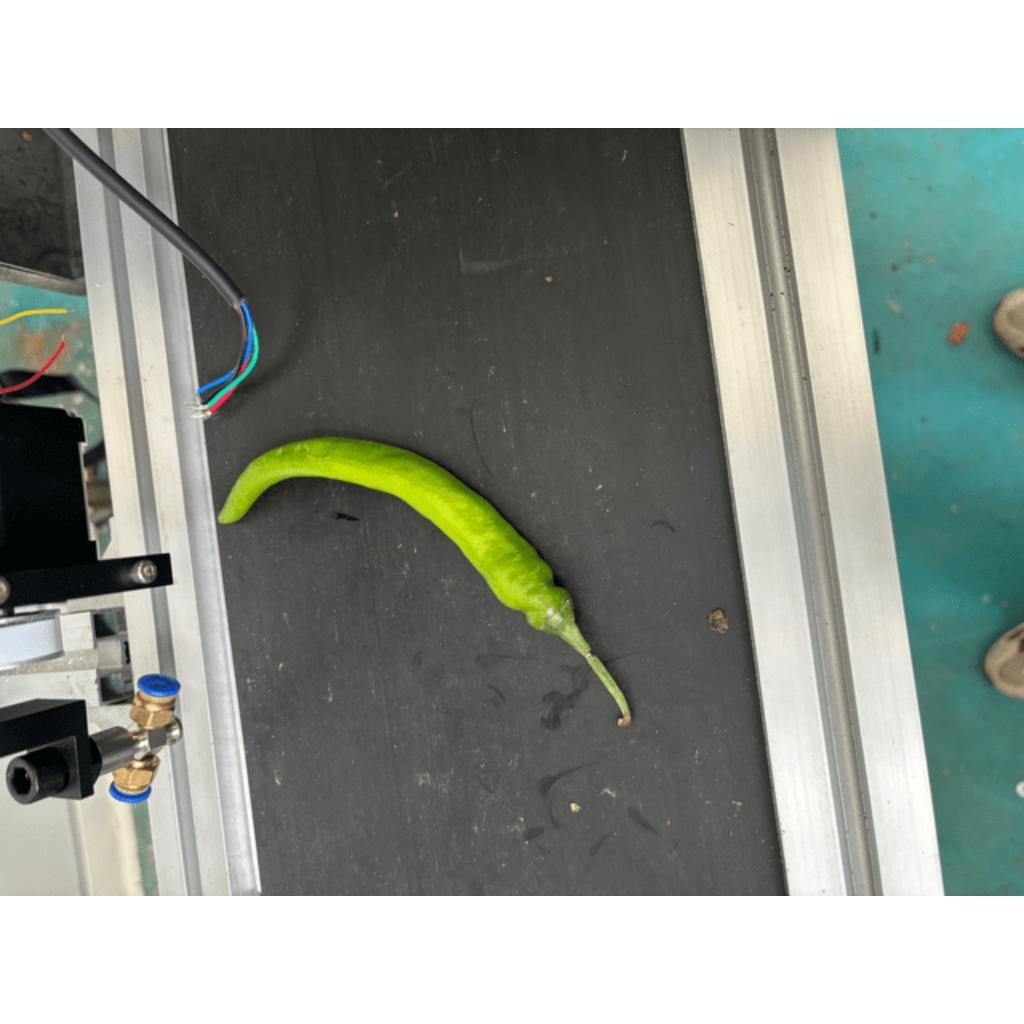chili: (219, 437, 577, 640)
